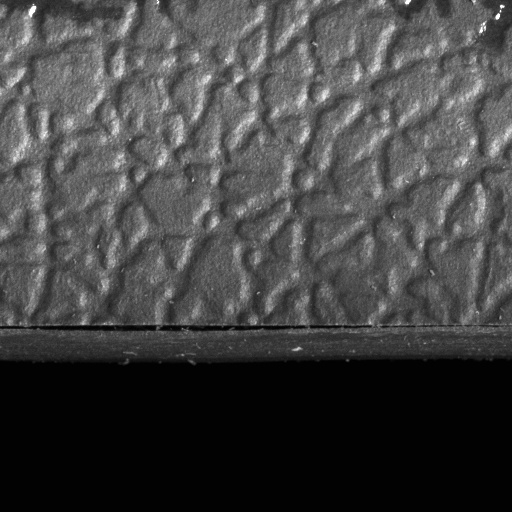jiaofeng: (0, 321, 370, 340)
